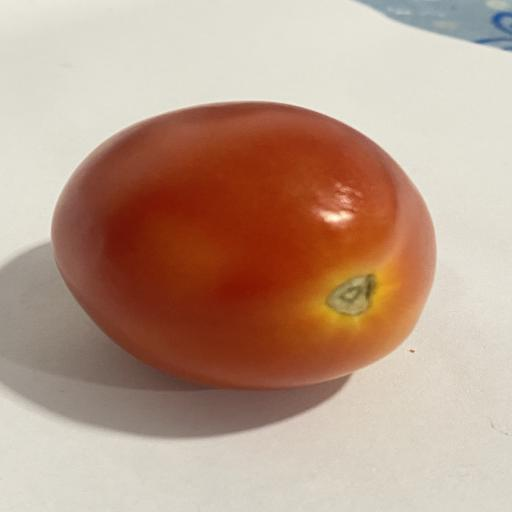ripe: (51, 102, 435, 389)
